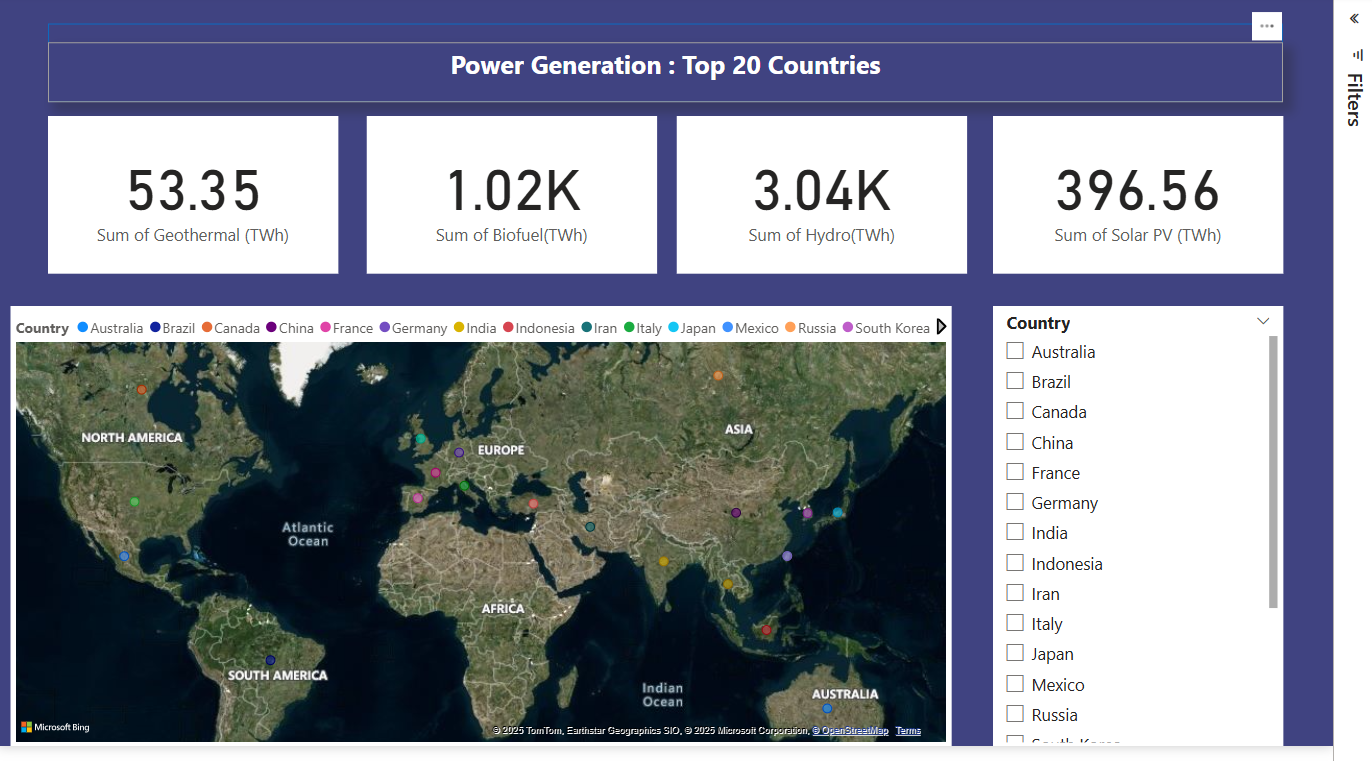

This screenshot's page, from the dashboard's own definition file:
{"tool":"powerbi","page":{"name":"Page 3","canvas":[1280,720],"ordinal":2},"visuals":[{"type":"map","fields":{"Category":["top20CountriesPowerGeneration.Country"],"Series":["top20CountriesPowerGeneration.Country"]},"box":[12,297.2,902.5,423.1],"z":0},{"type":"shape","box":[47.9,26.4,1184.1,75.5],"z":1000},{"type":"textbox","box":[47.9,44.3,1184.1,57.5],"z":2000},{"type":"card","fields":{"Values":["Sum(top20CountriesPowerGeneration.Geothermal (TWh))"]},"box":[47.9,115.1,278.1,151],"z":3000},{"type":"card","fields":{"Values":["Sum(top20CountriesPowerGeneration.Biofuel(TWh))"]},"box":[353.6,115.1,278.1,151],"z":4000},{"type":"card","fields":{"Values":["Sum(top20CountriesPowerGeneration.Hydro(TWh))"]},"box":[650.8,115.1,278.1,151],"z":5000},{"type":"card","fields":{"Values":["Sum(top20CountriesPowerGeneration.Solar PV (TWh))"]},"box":[954,115.1,278.1,151],"z":6000},{"type":"slicer","fields":{"Values":["top20CountriesPowerGeneration.Country"]},"box":[954,297,278,423],"z":7000}]}

Visuals, with their boxes in screenshot pixels (x1, y1, x2, y2):
map - top20CountriesPowerGeneration.Country x top20CountriesPowerGeneration.Country: crop(9, 299, 950, 740)
shape: crop(46, 17, 1281, 95)
textbox: crop(46, 35, 1281, 95)
card - Sum(top20CountriesPowerGeneration.Geothermal (TWh)): crop(46, 109, 336, 267)
card - Sum(top20CountriesPowerGeneration.Biofuel(TWh)): crop(365, 109, 655, 267)
card - Sum(top20CountriesPowerGeneration.Hydro(TWh)): crop(675, 109, 965, 267)
card - Sum(top20CountriesPowerGeneration.Solar PV (TWh)): crop(991, 109, 1281, 267)
slicer - top20CountriesPowerGeneration.Country: crop(991, 299, 1281, 740)
